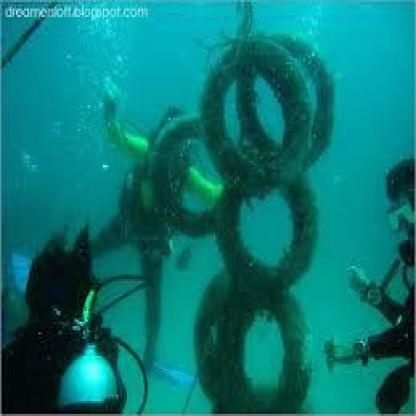tire: (189, 276, 307, 414), (218, 161, 333, 294), (214, 36, 321, 158), (162, 126, 244, 236)
